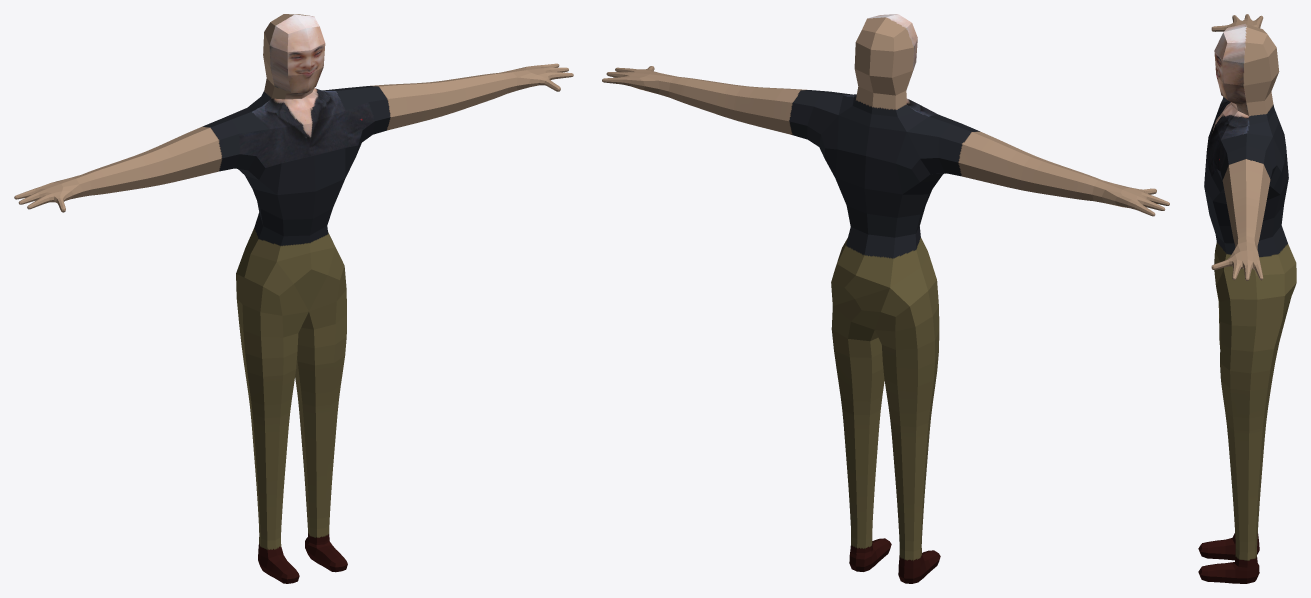
File: Ian.fbx
3 views of the same model, side by side, from view 1: azimuth 30°, elevation 25°; view 2: azimuth 150°, elevation 25°; view 3: azimuth 270°, elevation 25° (orthographic). The views are drawn at different scales.
Visible parts, largest first — view 1: Vert.002; view 2: Vert.002; view 3: Vert.002.
Part boxes in pixels (x1,y1,x2,y2): Vert.002: [14, 14, 573, 583]; Vert.002: [602, 14, 1169, 583]; Vert.002: [1198, 14, 1296, 583].
Size of the model in its own units: 213 by 203 by 33.4.
